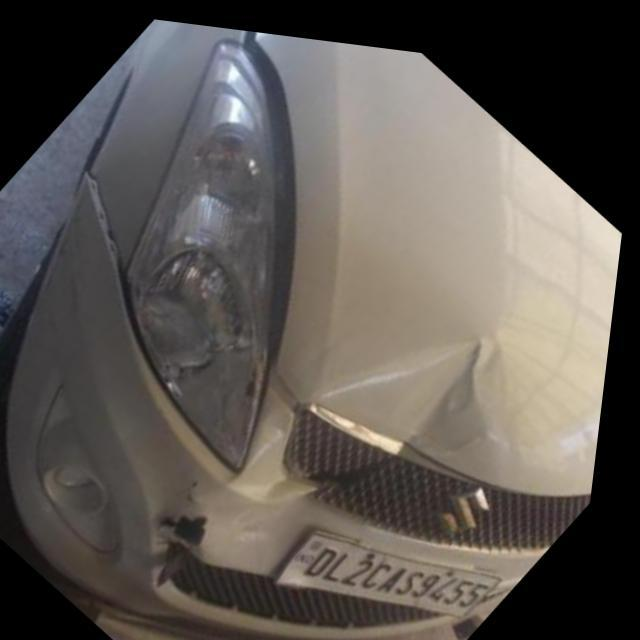crack: (313, 442, 400, 486), (163, 502, 227, 543)
dent: (313, 334, 508, 449), (240, 382, 330, 500)
dislocated part: (235, 30, 307, 378), (83, 163, 170, 391)
